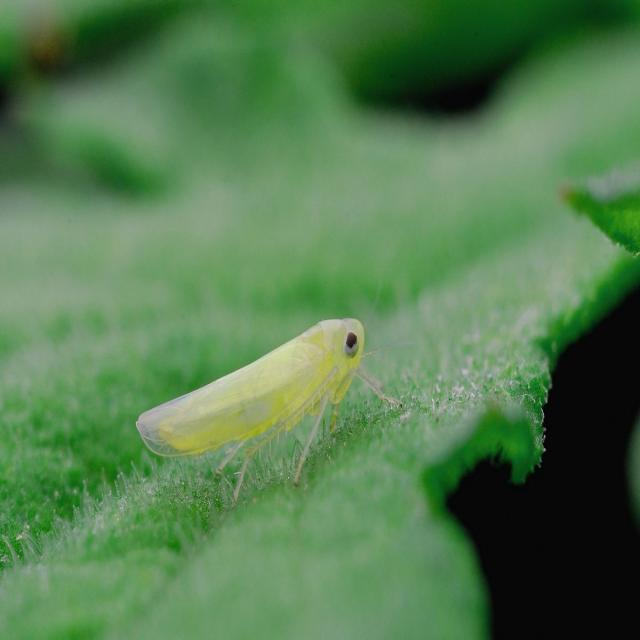Yechan: (130, 313, 370, 484)
